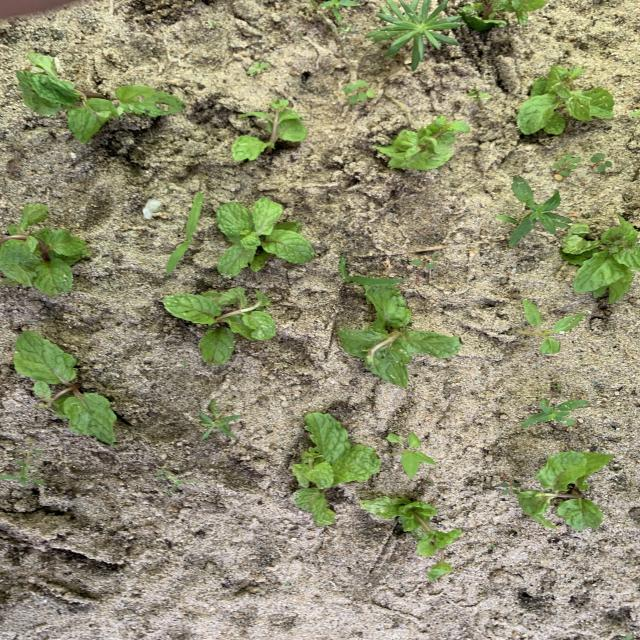crop: (338, 284, 460, 387), (16, 68, 184, 141), (14, 331, 116, 444), (293, 413, 380, 524), (360, 497, 461, 580), (163, 289, 275, 363), (1, 204, 89, 294), (218, 198, 314, 275), (518, 452, 611, 529), (561, 215, 639, 302), (517, 66, 614, 134), (375, 116, 468, 169), (232, 100, 305, 160), (459, 0, 548, 32)
weed: (368, 1, 461, 69), (497, 180, 571, 247), (511, 301, 583, 354), (168, 193, 203, 271), (386, 433, 436, 478), (339, 257, 403, 285), (521, 399, 587, 426), (200, 412, 239, 439), (0, 464, 44, 486), (319, 0, 359, 23), (345, 80, 375, 102), (553, 153, 579, 176), (591, 153, 611, 170), (143, 200, 162, 217), (499, 476, 519, 491), (413, 256, 436, 269), (468, 89, 489, 101), (247, 62, 268, 73)
